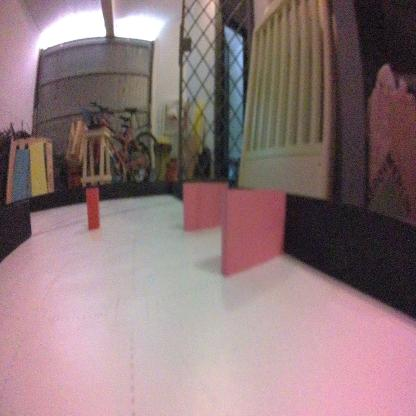magenta: (220, 187, 286, 278), (182, 178, 229, 229)
red: (85, 186, 101, 232)
